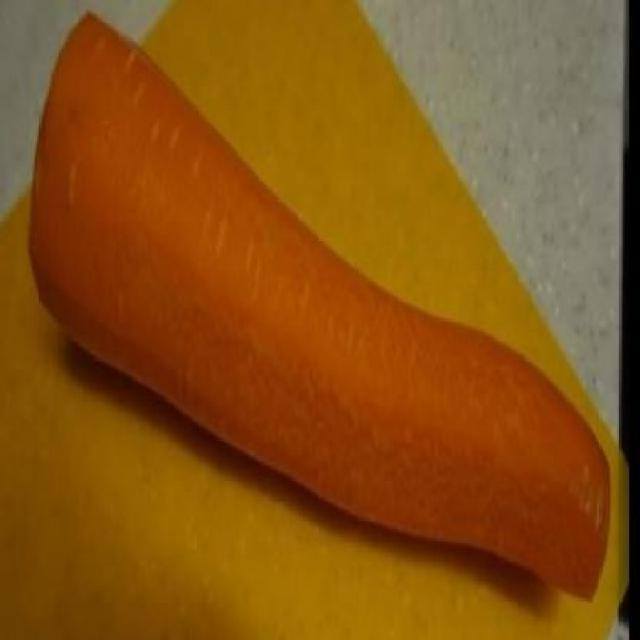carrot: (22, 10, 622, 607)
